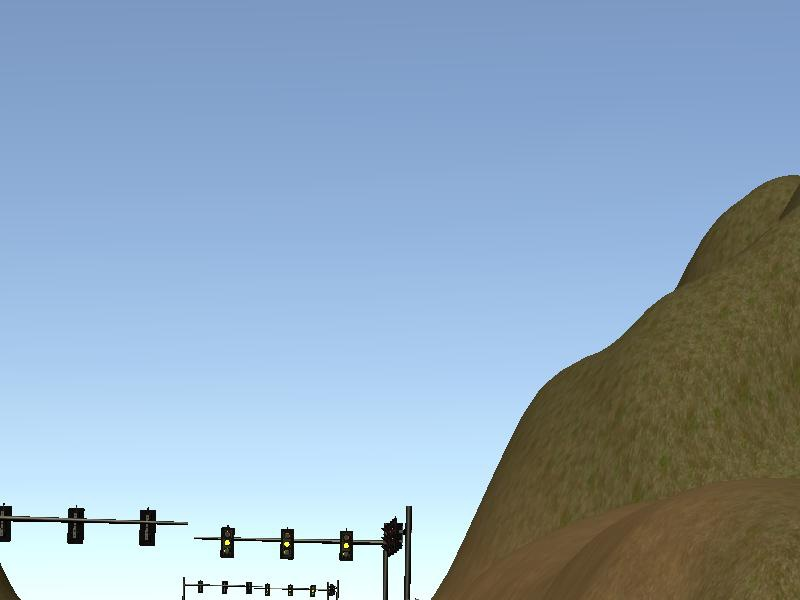yellow_light: (339, 530, 354, 563), (221, 528, 236, 558), (281, 527, 294, 558)
